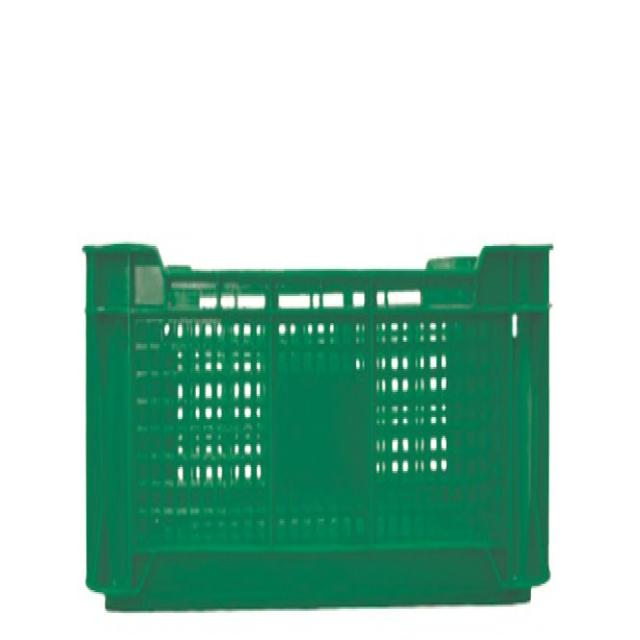basket: (85, 244, 551, 610)
